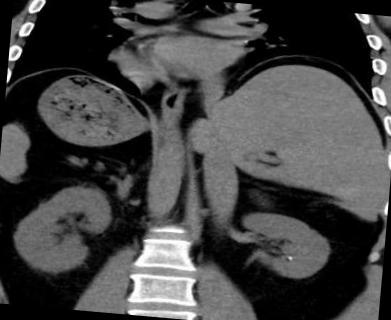Tas_Var: (286, 254, 294, 264)
